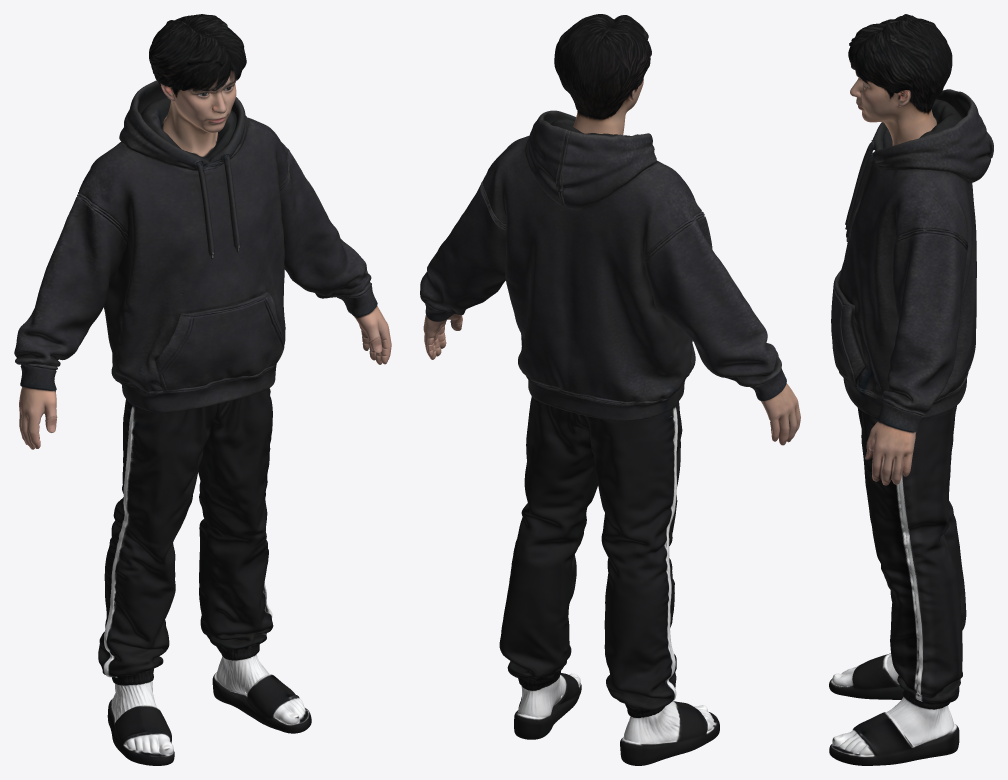
The model's file is char_owner_tripo.glb.
3 renders of one model, left to right at view 1: azimuth 30°, elevation 25°; view 2: azimuth 150°, elevation 25°; view 3: azimuth 270°, elevation 25°, orthographic.
Visible parts, largest first — view 1: tripo_node_562d6985-4502-44bd-8a4a-38af87992688; view 2: tripo_node_562d6985-4502-44bd-8a4a-38af87992688; view 3: tripo_node_562d6985-4502-44bd-8a4a-38af87992688.
Part boxes in pixels (box(x1,y1,x2,y2)): tripo_node_562d6985-4502-44bd-8a4a-38af87992688: box(14, 14, 391, 765); tripo_node_562d6985-4502-44bd-8a4a-38af87992688: box(420, 14, 800, 765); tripo_node_562d6985-4502-44bd-8a4a-38af87992688: box(829, 14, 993, 765).
Size of the model in its own units: 0.5294 by 0.9803 by 0.208.
1 material, 1 textured.
